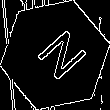N_SW: (24, 23, 86, 87)
